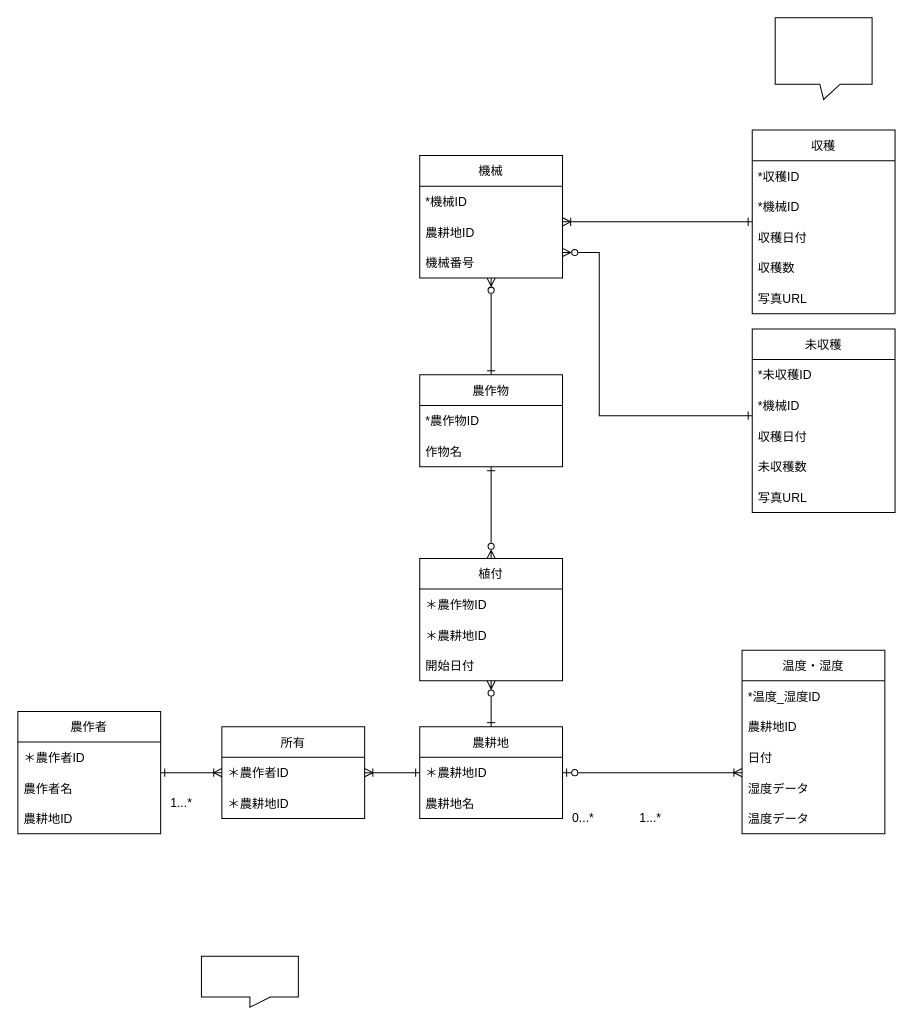
Image size: 913x1025. Some labels were removed from this diagram. Each missing label, with the centre of its shape:
"収穫IDがいらなくなる？" belongs at pixel 823 58.
"収穫テーブルが移動" belongs at pixel 249 981.
